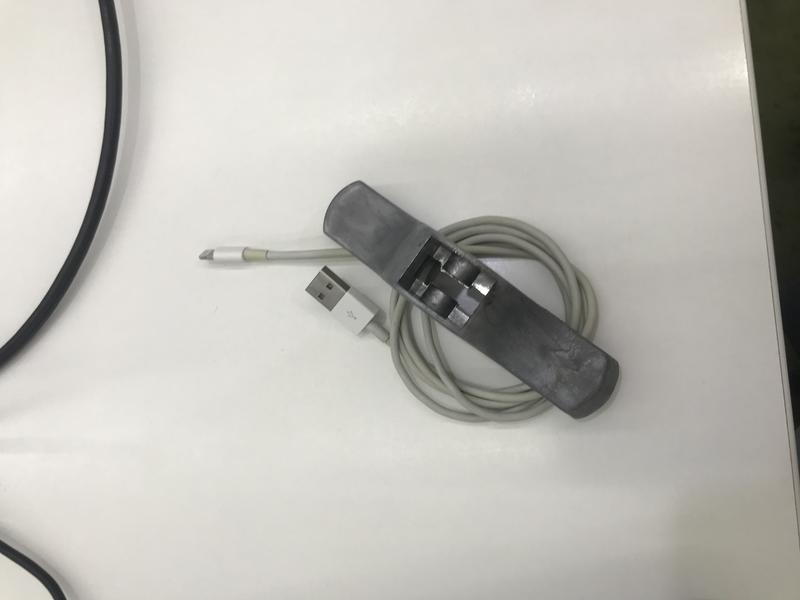zapchast: (311, 165, 628, 435)
